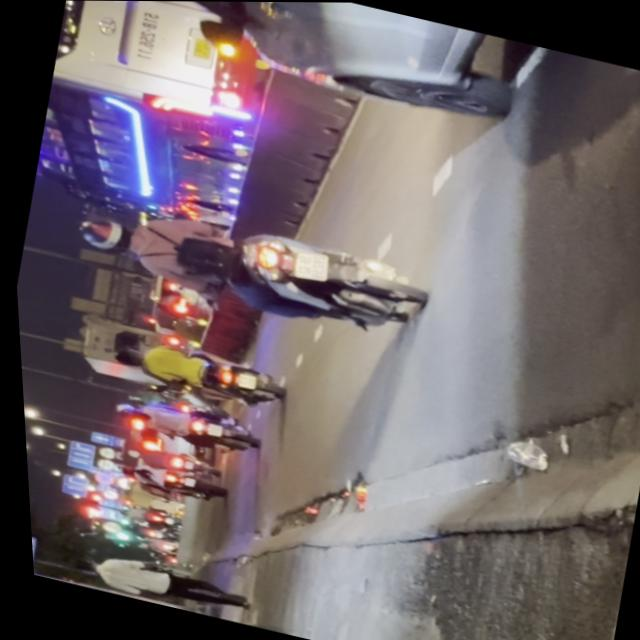helmet: (71, 210, 133, 253)
licenseplate: (61, 181, 429, 347)
nohelmet: (287, 246, 326, 280)
